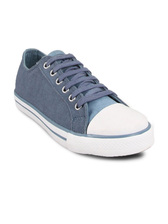shoes: (10, 46, 156, 158)
